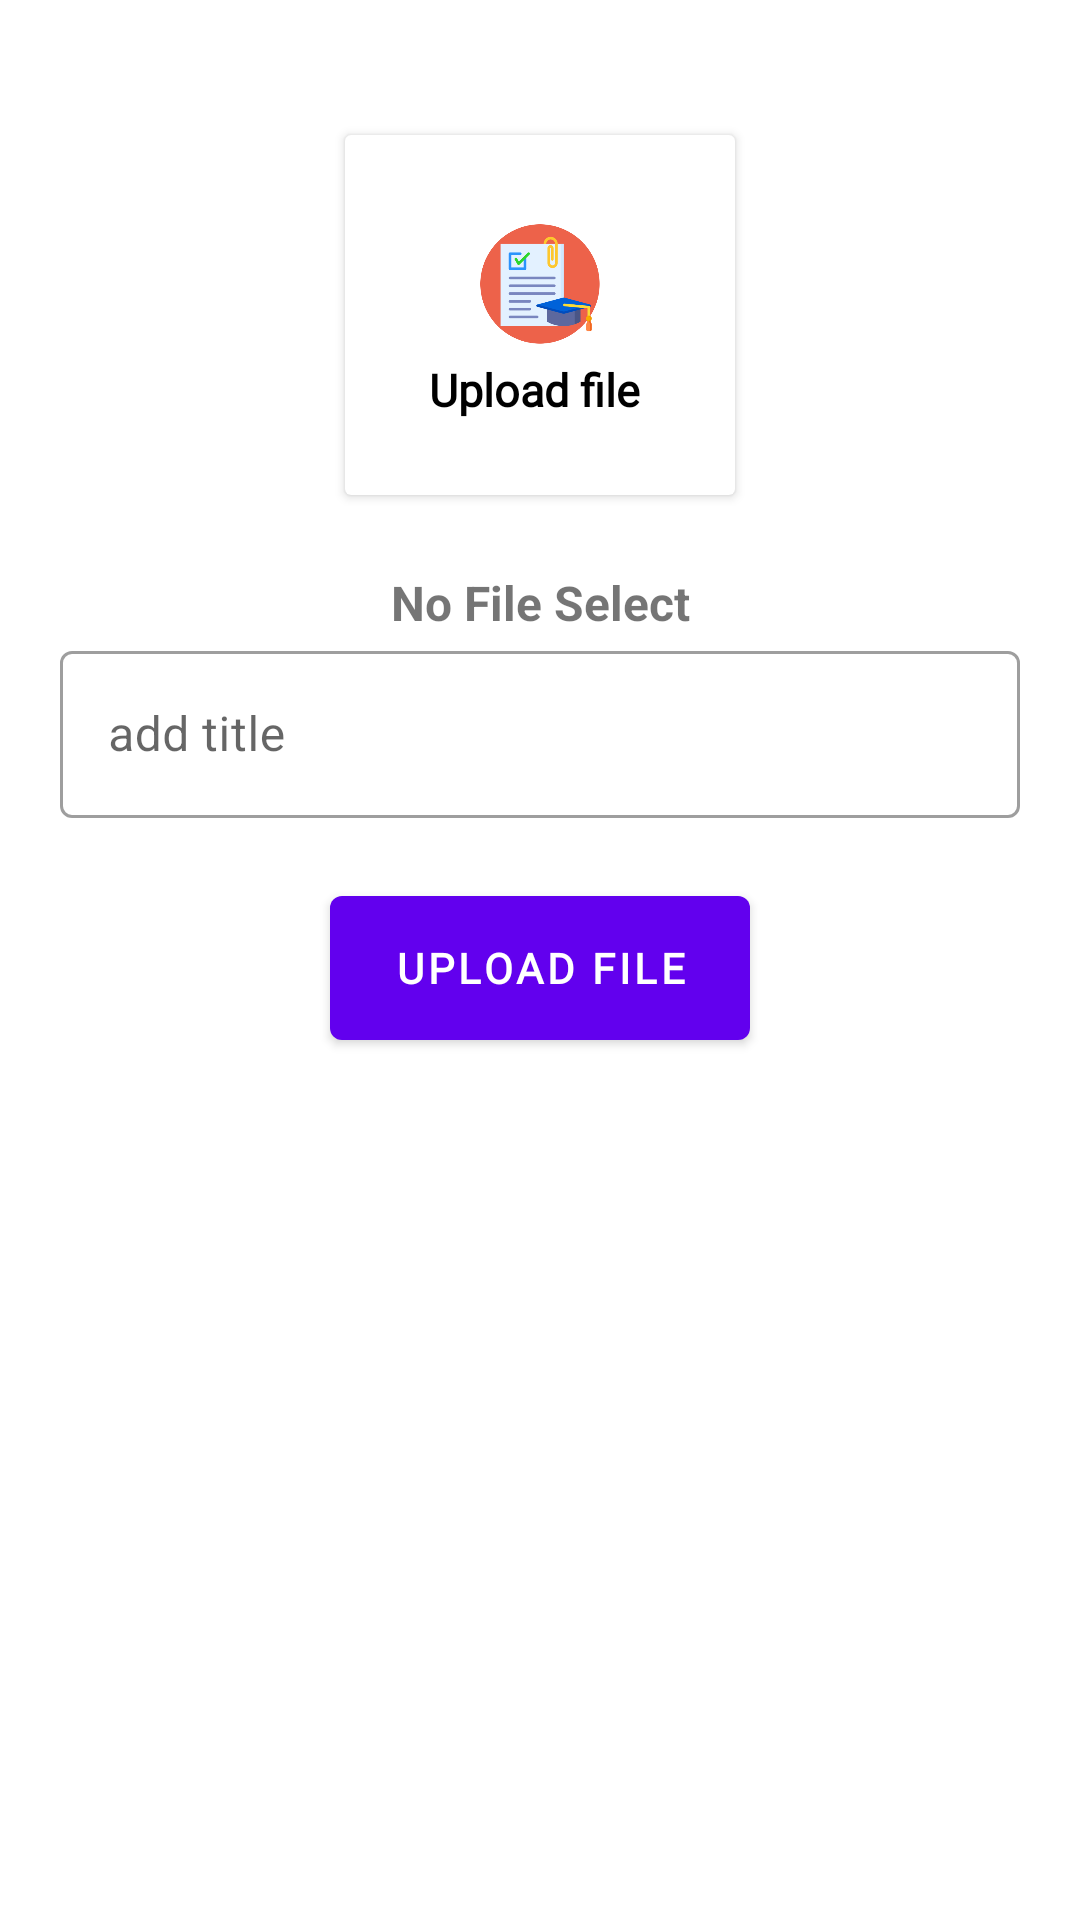

Point at icon controls on the screen. Image size 1080px×1920px, points as (x=x, y=y).
ademic: (x=540, y=284)
